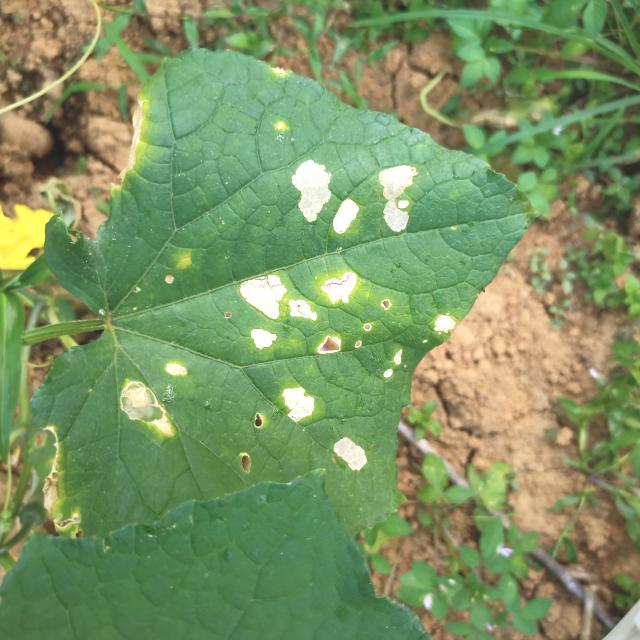disease_cucumber: (238, 270, 358, 357), (118, 360, 189, 438), (291, 158, 360, 235), (380, 164, 418, 233), (281, 386, 317, 423), (332, 437, 368, 472), (379, 346, 408, 379), (431, 313, 456, 337)
